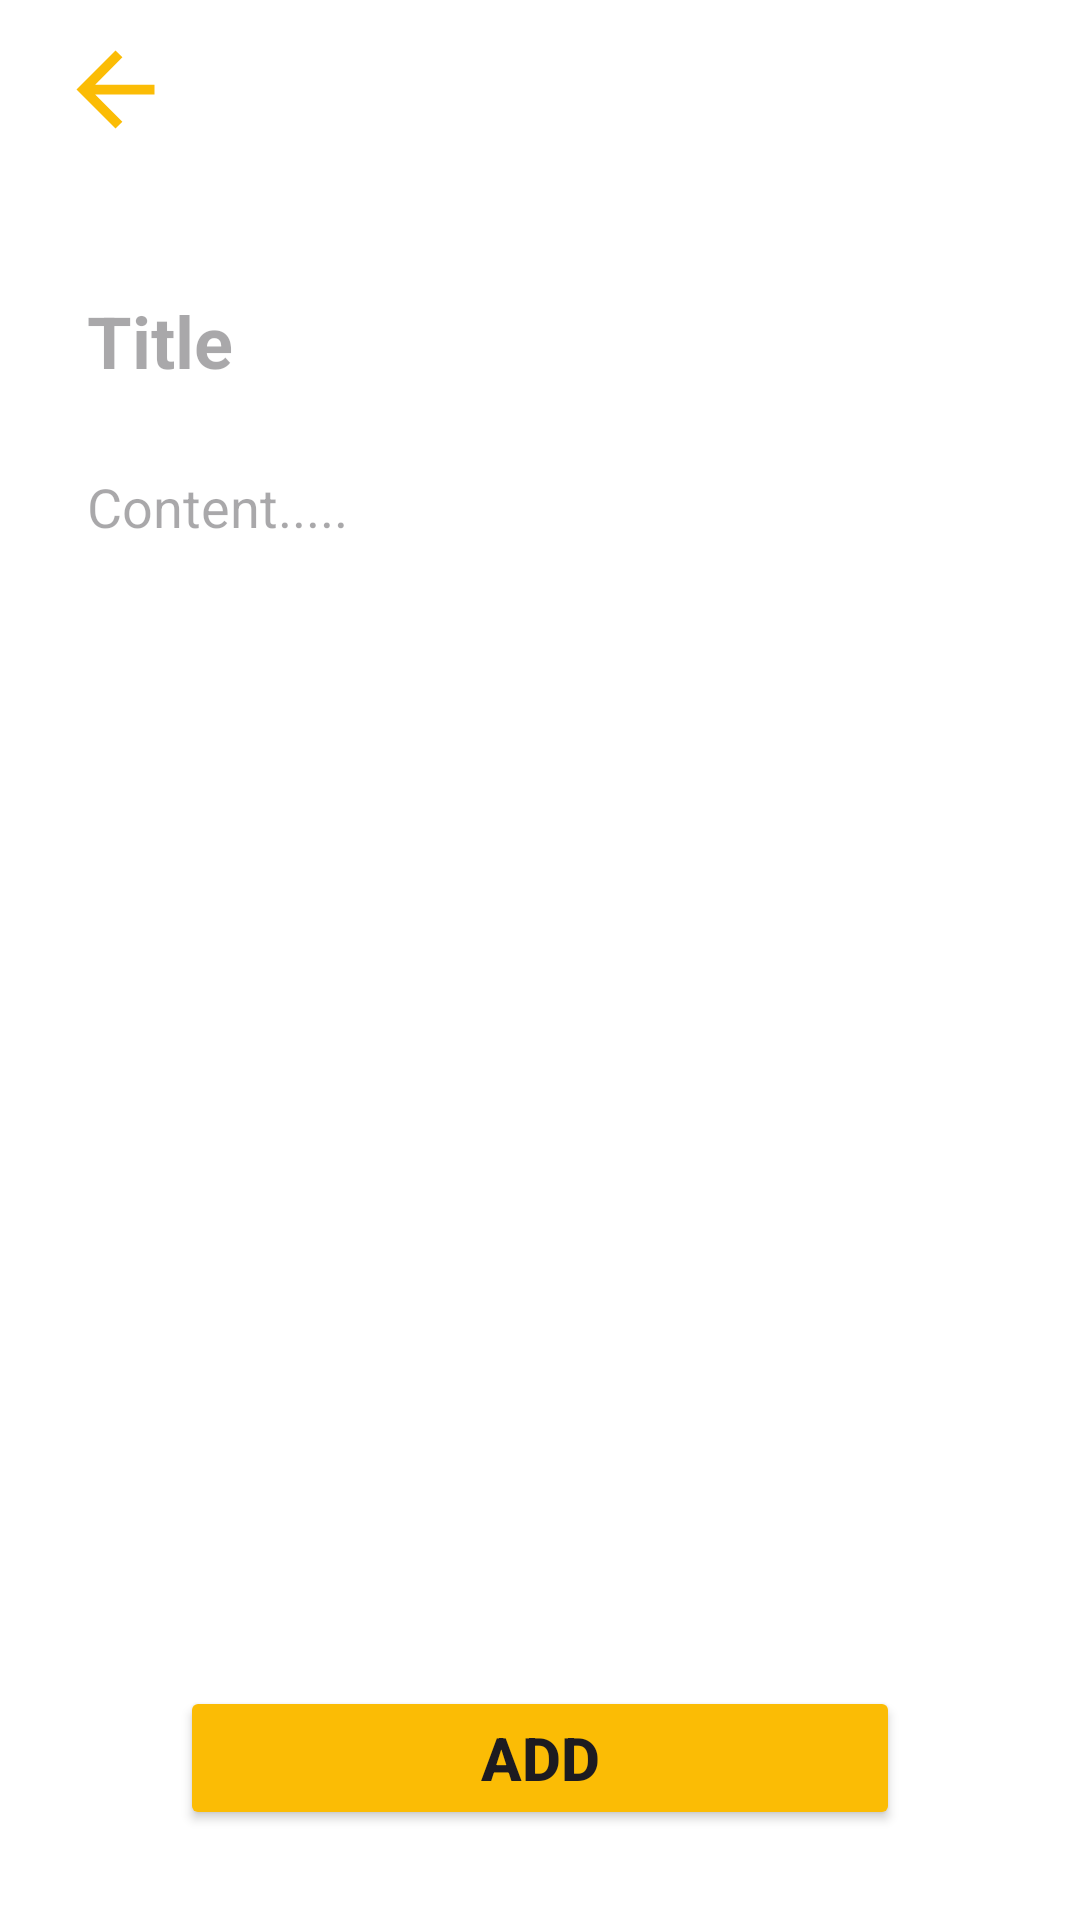

Screen size 1080x1920. Icon name, then its center in pixels as point (x, y):
arrow back: point (115, 89)
